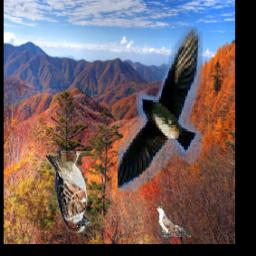Cuckoo: (156, 205, 191, 237)
Sparrow: (46, 152, 91, 234)
Swallow: (118, 27, 203, 192)
